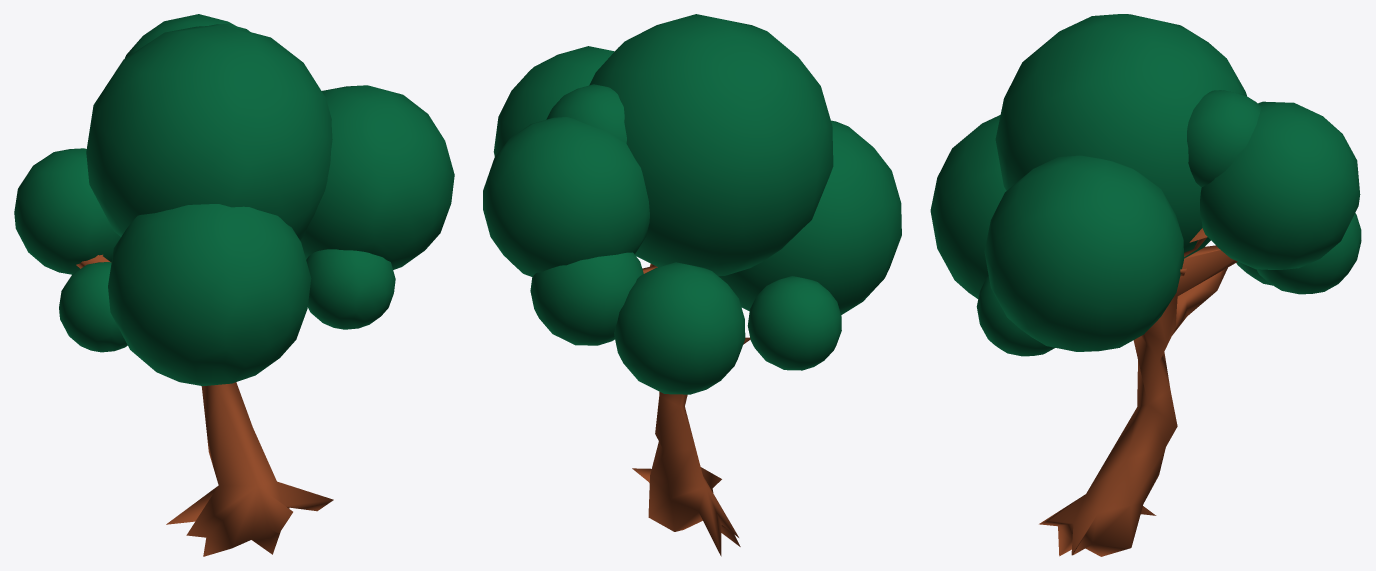
File: arbol.glb
3 views of the same model, side by side, from view 1: azimuth 30°, elevation 25°; view 2: azimuth 150°, elevation 25°; view 3: azimuth 270°, elevation 25° (orthographic). The views are drawn at different scales.
Parts seen in each view (by area): view 1: Sphere.019, Sphere.014, Sphere.016, Mball.001, Sphere.017, Sphere.020, Sphere.022, Sphere.021; view 2: Sphere.019, Sphere.021, Sphere.014, Sphere.017, Mball.001, Sphere.018, Sphere.022, Sphere.016, Sphere.015; view 3: Sphere.016, Sphere.019, Sphere.021, Mball.001, Sphere.014, Sphere.015, Sphere.018, Sphere.020.
Boxes of the visible parts, left/top/right/bottom form: Sphere.019: left=86, top=25, right=332, bottom=239; Sphere.014: left=108, top=204, right=311, bottom=386; Sphere.016: left=300, top=85, right=454, bottom=269; Mball.001: left=76, top=254, right=333, bottom=556; Sphere.017: left=14, top=148, right=120, bottom=274; Sphere.020: left=306, top=249, right=395, bottom=329; Sphere.022: left=59, top=262, right=127, bottom=352; Sphere.021: left=125, top=14, right=236, bottom=58; Sphere.019: left=589, top=14, right=833, bottom=275; Sphere.021: left=483, top=117, right=649, bottom=276; Sphere.014: left=718, top=120, right=901, bottom=315; Sphere.017: left=614, top=262, right=745, bottom=394; Mball.001: left=632, top=264, right=750, bottom=556; Sphere.018: left=530, top=252, right=643, bottom=345; Sphere.022: left=747, top=276, right=841, bottom=370; Sphere.016: left=493, top=46, right=614, bottom=156; Sphere.015: left=546, top=84, right=626, bottom=143; Sphere.016: left=984, top=155, right=1183, bottom=351; Sphere.019: left=995, top=14, right=1246, bottom=258; Sphere.021: left=1200, top=101, right=1360, bottom=269; Mball.001: left=1039, top=228, right=1237, bottom=556; Sphere.014: left=930, top=115, right=1006, bottom=298; Sphere.015: left=1187, top=90, right=1261, bottom=187; Sphere.018: left=1256, top=213, right=1361, bottom=294; Sphere.020: left=976, top=276, right=1054, bottom=356.
Size of the model in its own units: 5.11 by 7.12 by 5.35.
